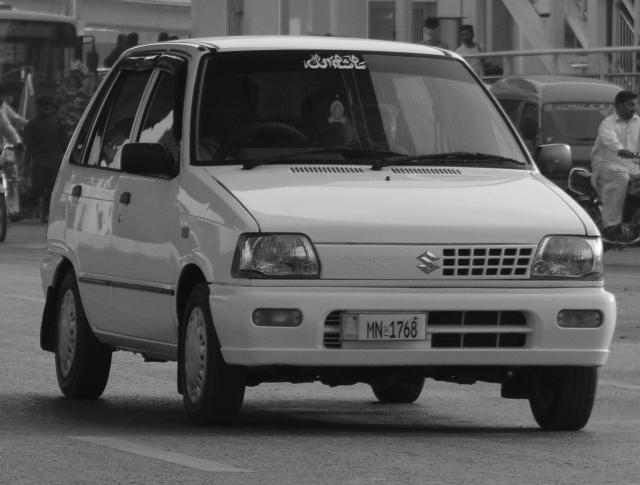Number: (364, 320, 421, 340)
